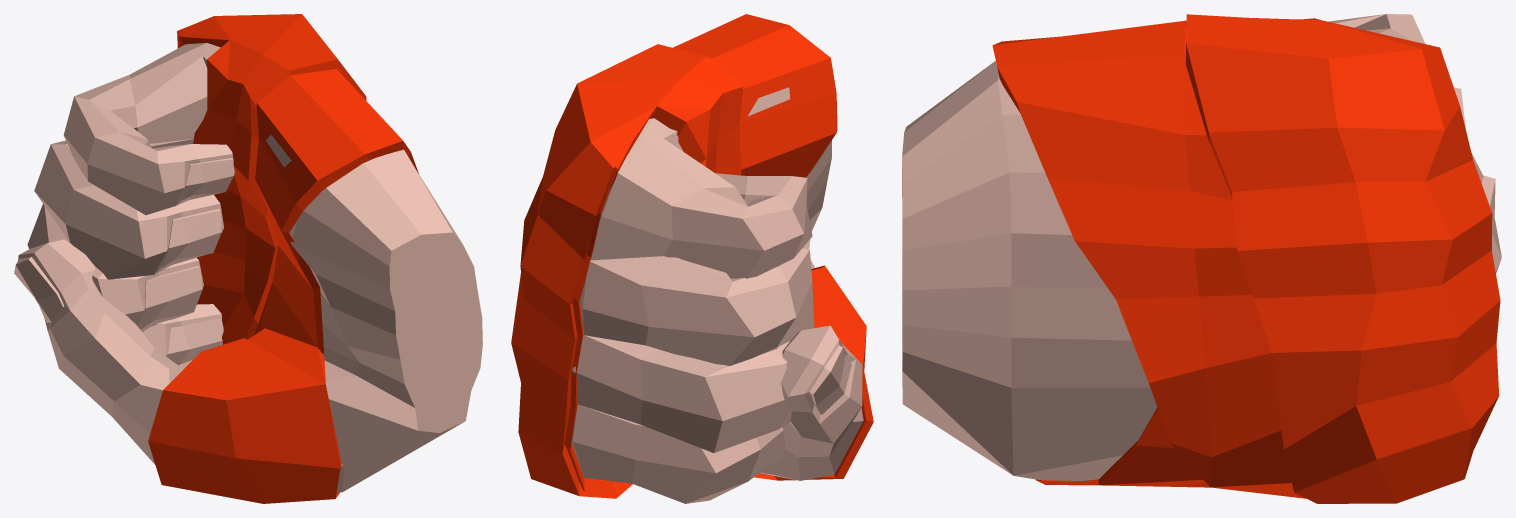
File: LHand.fbx
3 views of the same model, side by side, from view 1: azimuth 30°, elevation 25°; view 2: azimuth 150°, elevation 25°; view 3: azimuth 270°, elevation 25° (orthographic). The views are drawn at different scales.
Parts seen in each view (by area): view 1: Hand, Bandages3; view 2: Hand, Bandages3; view 3: Bandages3, Hand.
Boxes of the visible parts, x1,y1,x2,y2 form: Hand: (14, 43, 482, 492); Bandages3: (148, 14, 418, 503); Hand: (571, 87, 863, 503); Bandages3: (511, 14, 873, 498); Bandages3: (992, 14, 1500, 503); Hand: (902, 14, 1501, 480).
Bounding box in the file's own units: 6.94 × 8.14 × 9.2.
